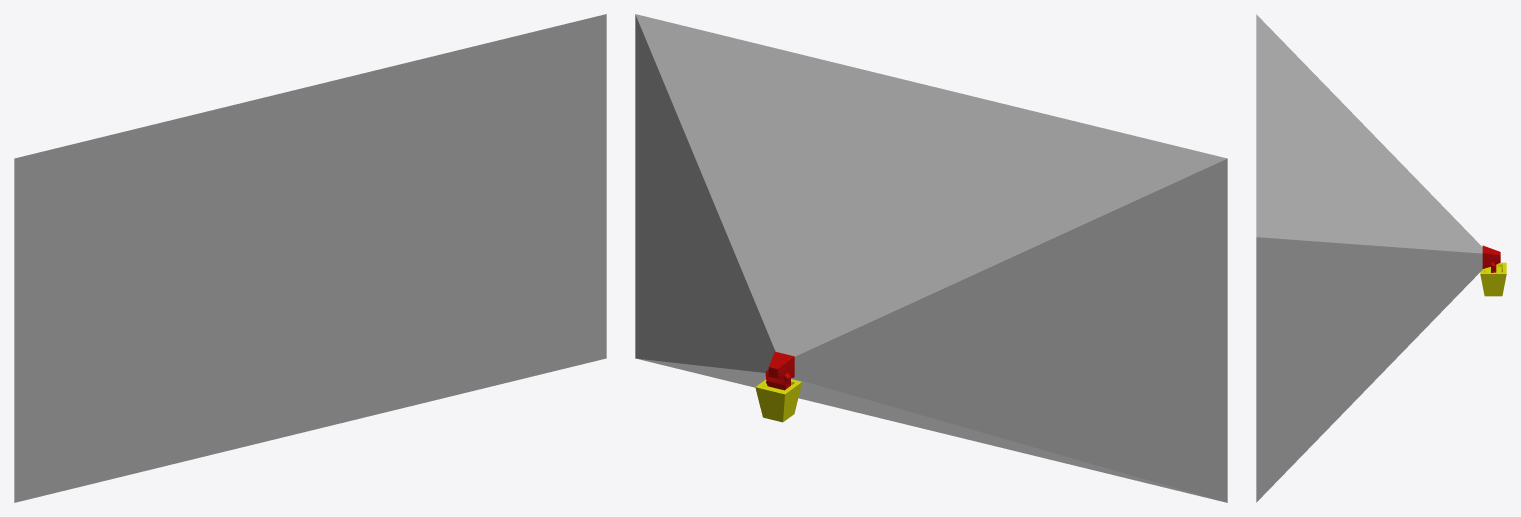
File: plant_pot.fbx
The picture shows the model from 3 angles, left to right: view 1: azimuth 30°, elevation 25°; view 2: azimuth 150°, elevation 25°; view 3: azimuth 270°, elevation 25°; orthographic projection. The views are drawn at different scales.
Parts seen in each view (by area): view 1: pasted__pCube13; view 2: pasted__pCube13, pasted__PlantPot, pasted__Lamp; view 3: pasted__pCube13, pasted__PlantPot, pasted__Lamp.
Part boxes in pixels (x1,y1,x2,y2): pasted__pCube13: (14, 14, 606, 502); pasted__pCube13: (635, 14, 1227, 502); pasted__PlantPot: (755, 379, 801, 422); pasted__Lamp: (765, 351, 794, 390); pasted__pCube13: (1256, 14, 1482, 502); pasted__PlantPot: (1480, 262, 1506, 296); pasted__Lamp: (1482, 245, 1500, 272).
Size of the model in its own units: 29.59 by 16.44 by 14.05.
